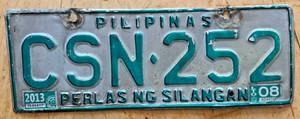plate: (6, 8, 296, 108)
